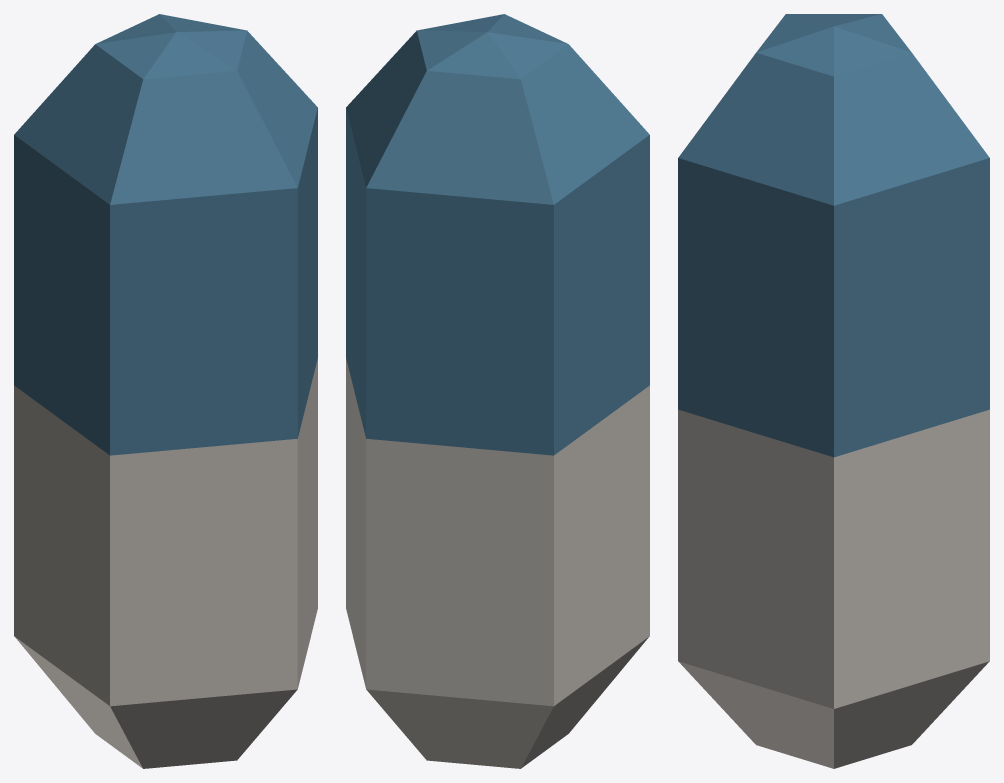
File: SM_Prop_Pill_01.fbx
The picture shows the model from 3 angles, left to right: view 1: azimuth 30°, elevation 25°; view 2: azimuth 150°, elevation 25°; view 3: azimuth 270°, elevation 25°; orthographic projection.
Parts seen in each view (by area): view 1: SM_Prop_Pill_01; view 2: SM_Prop_Pill_01; view 3: SM_Prop_Pill_01.
Part boxes in pixels (x1=…): SM_Prop_Pill_01: x1=14, y1=14, x2=317, y2=768; SM_Prop_Pill_01: x1=346, y1=14, x2=649, y2=768; SM_Prop_Pill_01: x1=678, y1=14, x2=989, y2=768.
Size of the model in its own units: 1.61 by 4.33 by 1.69.
